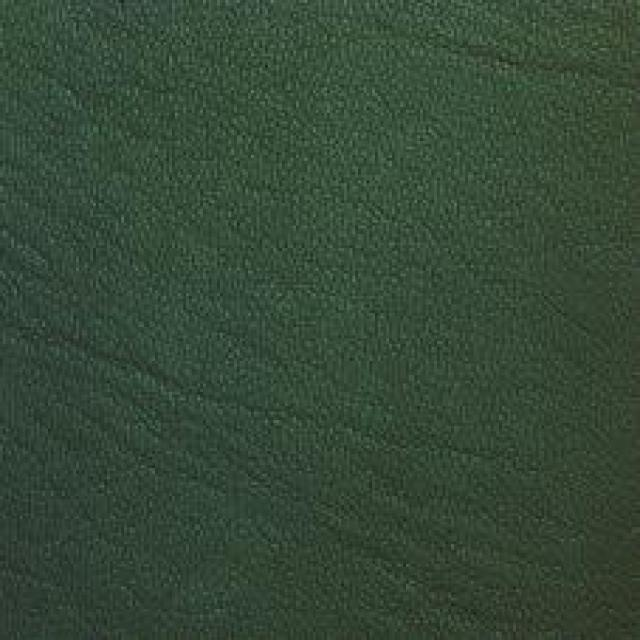Growth Marks: (30, 316, 246, 426), (406, 26, 615, 104)
